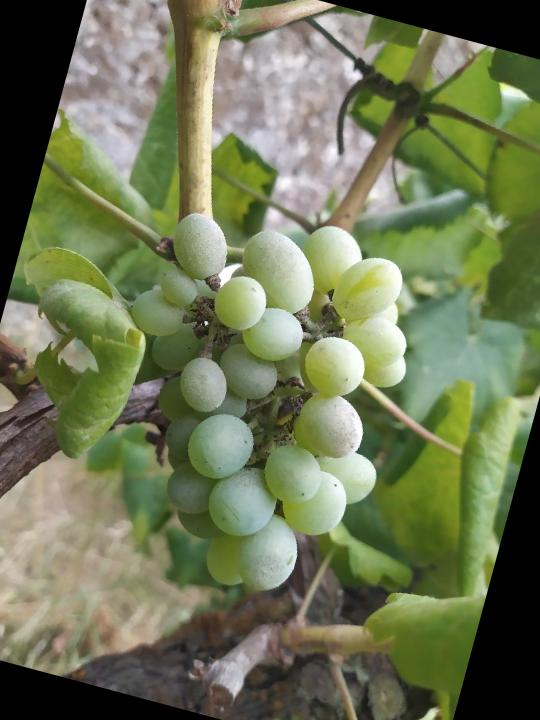grape: (64, 177, 442, 621)
